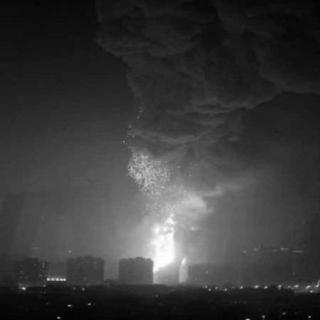Fire: (147, 210, 185, 267)
